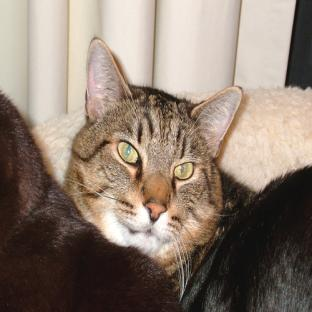Animal: (65, 39, 311, 311)
